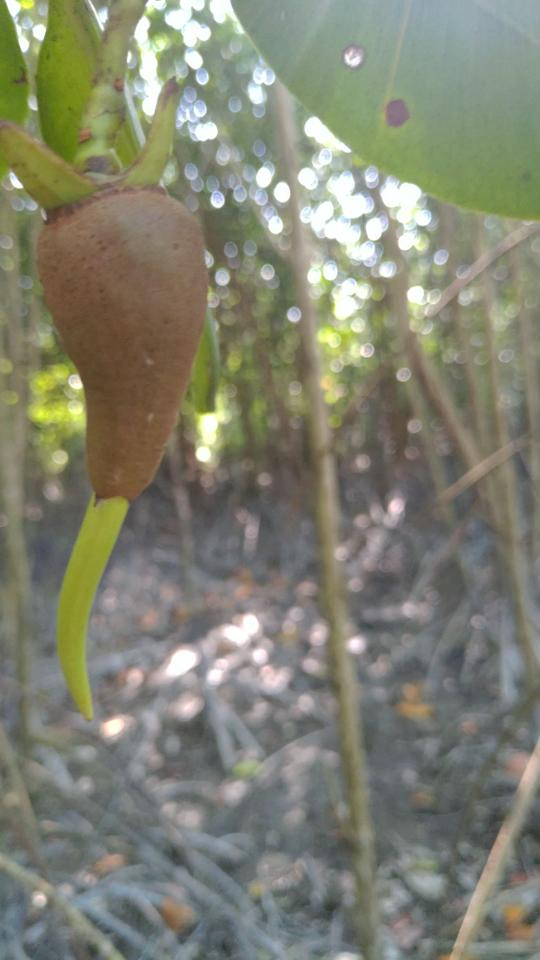mentah: (23, 140, 250, 723)
